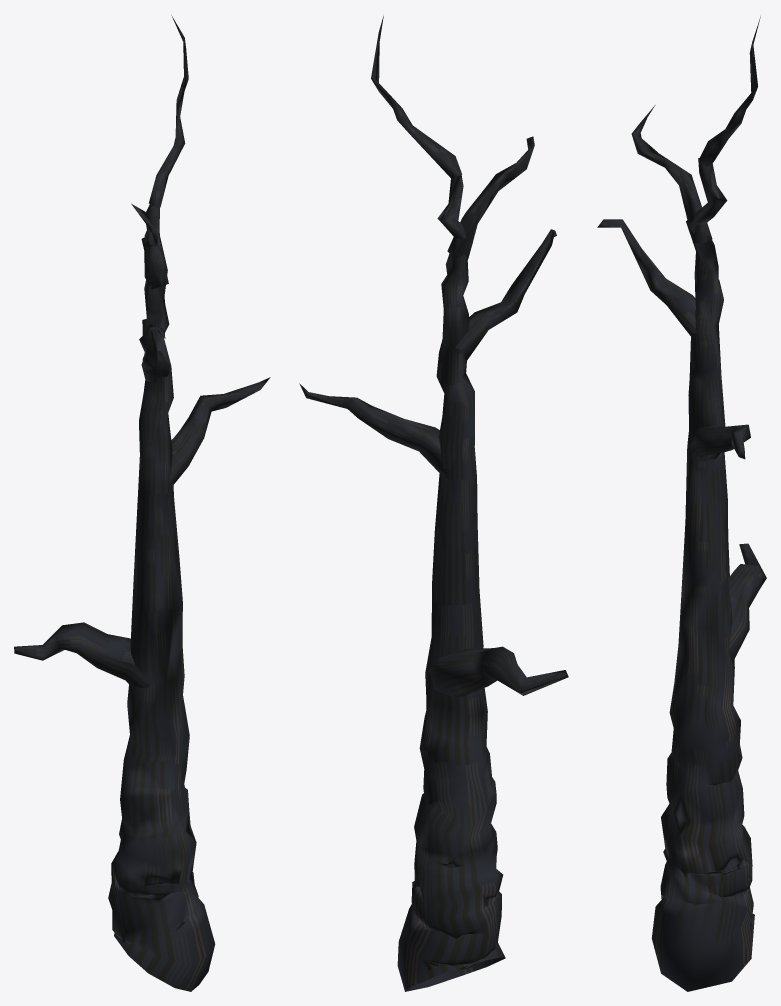
File: Branch2.fbx
The picture shows the model from 3 angles, left to right: view 1: azimuth 30°, elevation 25°; view 2: azimuth 150°, elevation 25°; view 3: azimuth 270°, elevation 25°; orthographic projection. The views are drawn at different scales.
Visible parts, largest first — view 1: geo1; view 2: geo1; view 3: geo1.
Part boxes in pixels (<box>): geo1: <box>14,15,270,991</box>; geo1: <box>299,16,568,991</box>; geo1: <box>597,16,766,991</box>.
Size of the model in its own units: 5.31 by 18.73 by 2.94.
